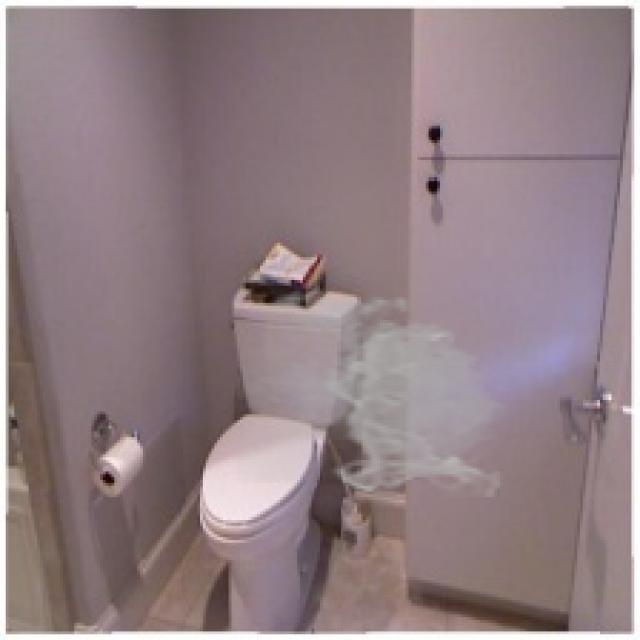Smoke: (237, 282, 512, 498)
